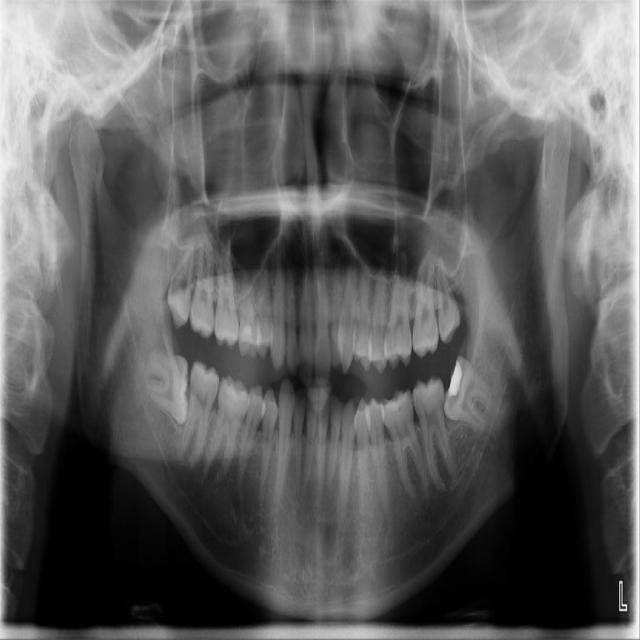Caries: (170, 276, 182, 298)
Filling: (445, 360, 463, 401), (240, 323, 257, 346)
impacted tooth: (442, 356, 502, 435), (138, 354, 189, 421), (165, 242, 193, 329)
